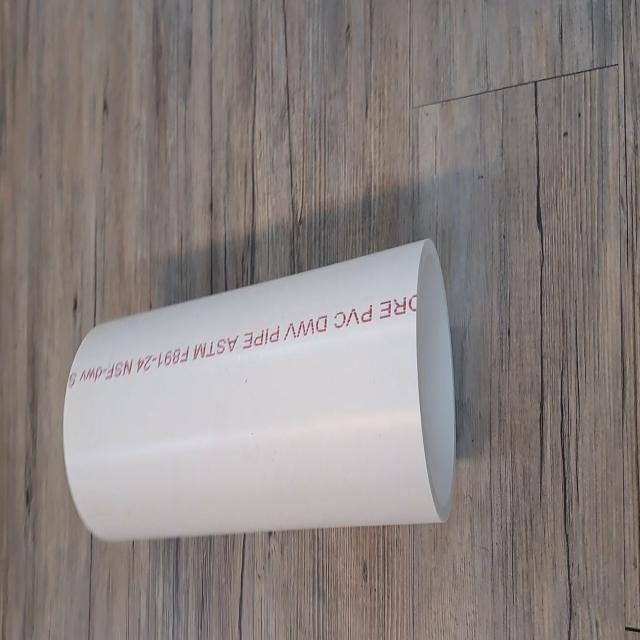CORAL: (54, 230, 461, 536)
